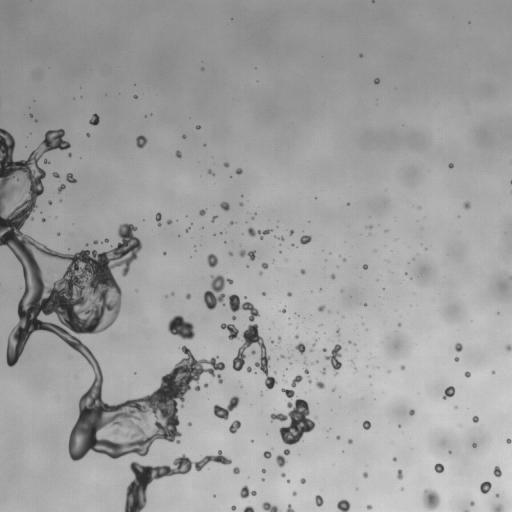droplet: (270, 398, 315, 445), (167, 315, 194, 339), (213, 396, 239, 420), (324, 344, 341, 375), (422, 489, 440, 511), (276, 449, 290, 467), (240, 485, 256, 498), (239, 249, 255, 260), (293, 342, 305, 355), (443, 386, 455, 399), (229, 420, 241, 433), (337, 499, 350, 511), (281, 388, 295, 399), (136, 135, 147, 148), (207, 254, 218, 267), (291, 375, 302, 387), (480, 481, 491, 493), (89, 114, 99, 125), (300, 234, 311, 244), (66, 173, 76, 183), (434, 463, 444, 473), (220, 201, 229, 211), (493, 466, 501, 477), (315, 495, 323, 506), (492, 503, 503, 511), (454, 342, 462, 351), (362, 420, 370, 429), (243, 505, 254, 511), (316, 380, 324, 388), (397, 469, 403, 479), (58, 184, 65, 192), (263, 451, 271, 458), (463, 202, 470, 209), (175, 150, 181, 158), (286, 505, 294, 511), (235, 168, 242, 174), (261, 262, 268, 268), (233, 467, 239, 474), (199, 209, 205, 215), (185, 293, 191, 299), (318, 305, 324, 311), (464, 371, 470, 377), (472, 416, 478, 422), (52, 172, 59, 177), (506, 344, 511, 351), (374, 78, 379, 84), (211, 215, 216, 221), (409, 409, 414, 415), (304, 368, 308, 375), (224, 162, 229, 167), (448, 163, 453, 168), (208, 170, 213, 175), (300, 269, 305, 274), (246, 367, 251, 372), (506, 438, 511, 443), (300, 478, 305, 483), (321, 368, 325, 374), (195, 384, 199, 390), (44, 159, 49, 163), (167, 219, 171, 224), (185, 227, 189, 232), (279, 236, 284, 240), (103, 238, 108, 242), (93, 240, 98, 244), (363, 264, 367, 269), (331, 274, 335, 279), (280, 308, 285, 312), (277, 337, 281, 342), (454, 357, 459, 361), (400, 365, 405, 369), (363, 472, 367, 477), (470, 501, 474, 506), (367, 505, 372, 509), (196, 125, 200, 129), (86, 133, 90, 137), (239, 202, 243, 206), (287, 292, 291, 296), (251, 350, 255, 354), (280, 354, 284, 358), (336, 435, 340, 439), (348, 439, 352, 443), (472, 443, 476, 447), (281, 473, 285, 477), (292, 491, 296, 495), (495, 493, 499, 497), (231, 506, 235, 510), (366, 225, 371, 228), (290, 230, 293, 235), (295, 334, 298, 339), (29, 113, 32, 117), (228, 252, 232, 255), (363, 303, 367, 306), (270, 339, 273, 343), (353, 366, 356, 370), (204, 383, 207, 387), (188, 422, 191, 426), (393, 457, 396, 461), (286, 479, 290, 482), (134, 95, 137, 98), (34, 119, 37, 122), (182, 135, 185, 138), (68, 153, 71, 156), (48, 201, 51, 204), (230, 221, 233, 224), (262, 292, 265, 295), (232, 316, 235, 319), (398, 323, 401, 326), (491, 370, 494, 373), (262, 469, 265, 472), (359, 54, 362, 56), (418, 206, 420, 209), (163, 252, 166, 254), (343, 258, 345, 261), (259, 272, 262, 274), (310, 348, 312, 351), (323, 348, 325, 351), (289, 355, 291, 358), (308, 380, 311, 382), (262, 478, 264, 481), (347, 202, 349, 204), (252, 216, 254, 218), (42, 219, 44, 221), (368, 233, 370, 235), (275, 236, 277, 238), (172, 292, 174, 294), (165, 295, 167, 297), (312, 344, 314, 346), (304, 362, 306, 364), (332, 388, 334, 390), (398, 425, 400, 427), (400, 488, 402, 490)
ligament: (0, 128, 225, 461), (203, 275, 276, 388), (124, 450, 231, 511), (247, 227, 272, 237), (262, 502, 280, 511), (155, 212, 161, 226), (336, 328, 339, 335), (464, 510, 469, 511), (510, 180, 511, 183), (510, 276, 511, 279)
